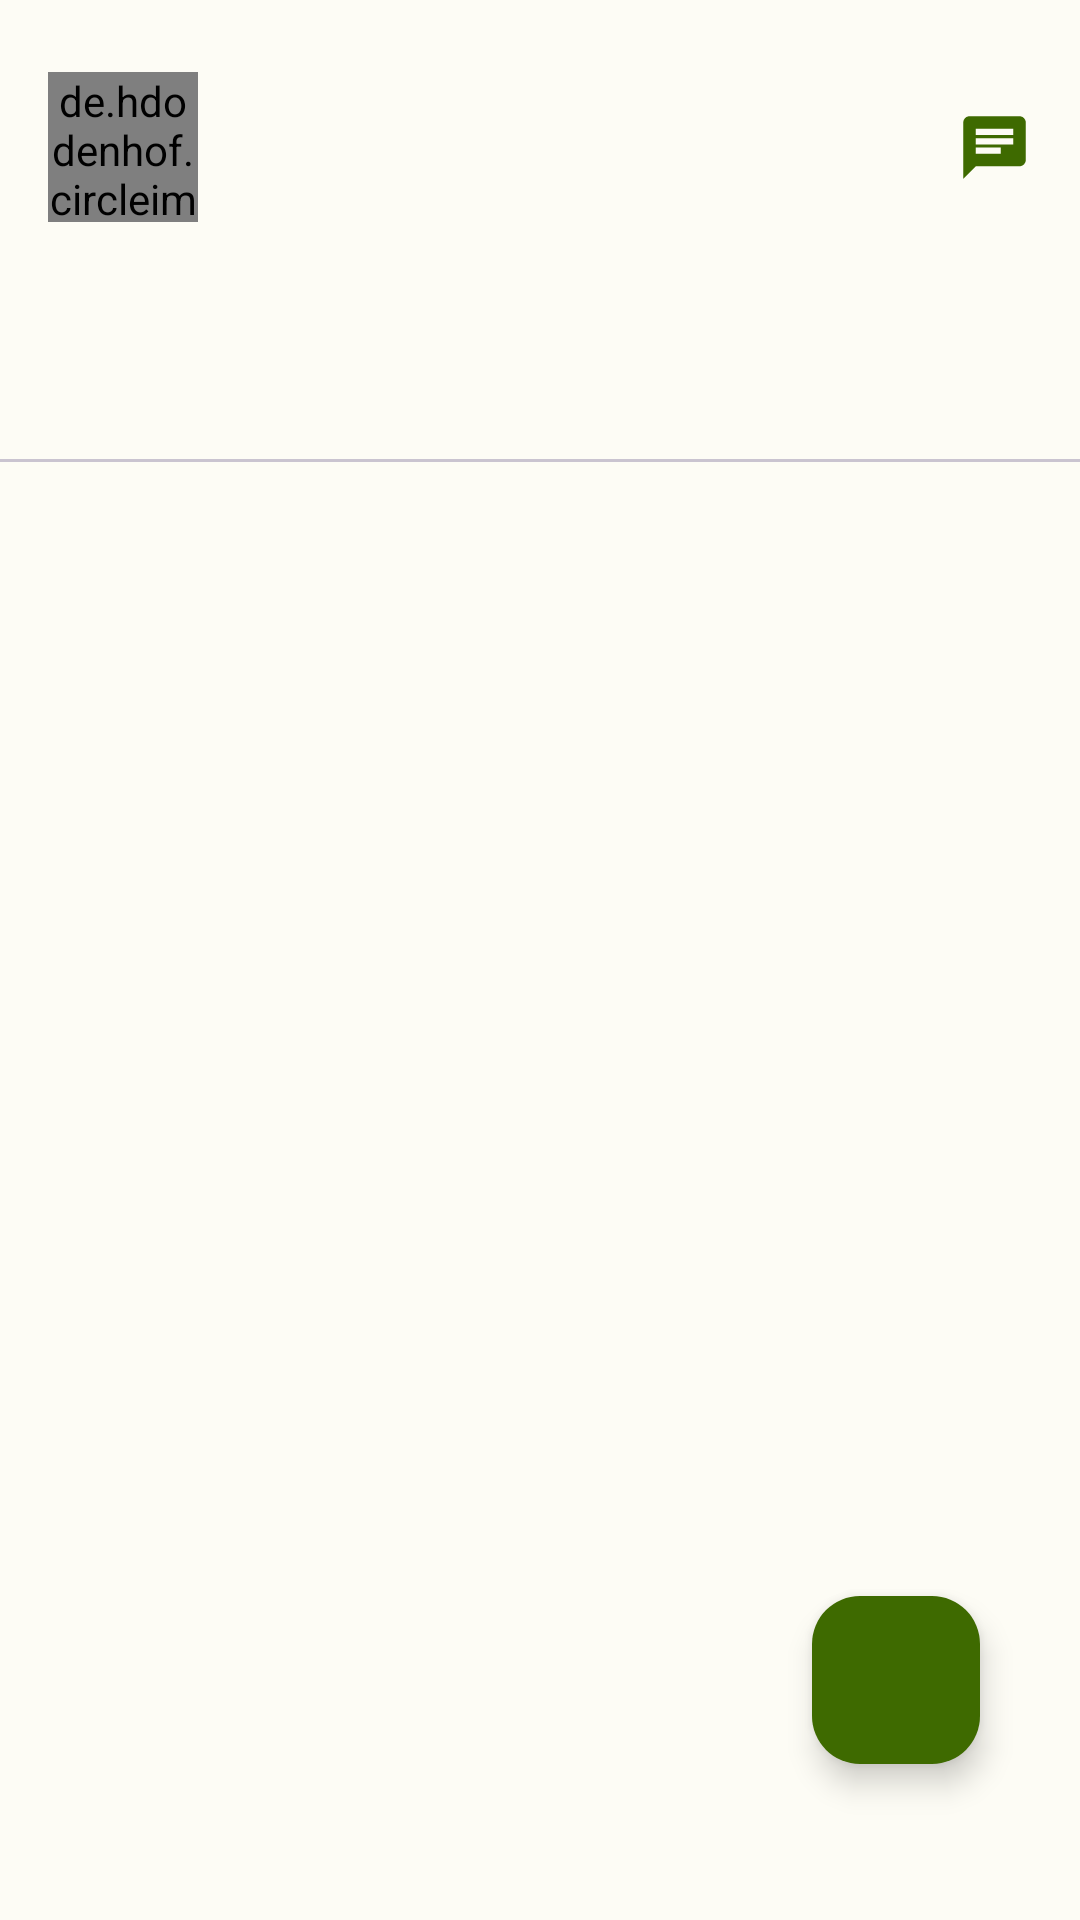

Icon click points for this 1080px x 1920px phone screenshot, format [x,y]:
chat: [994,147]
